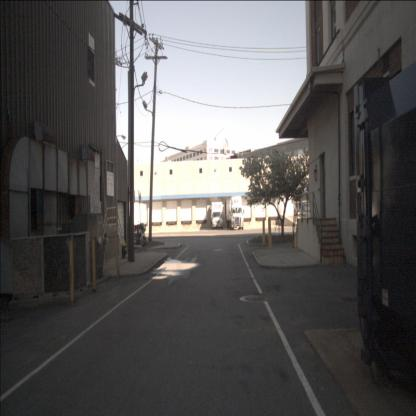vehicle-car: (211, 209, 224, 230)
vehicle-motorcycle: (133, 223, 147, 246)
vehicle-truck: (230, 196, 244, 230), (210, 202, 224, 230)
